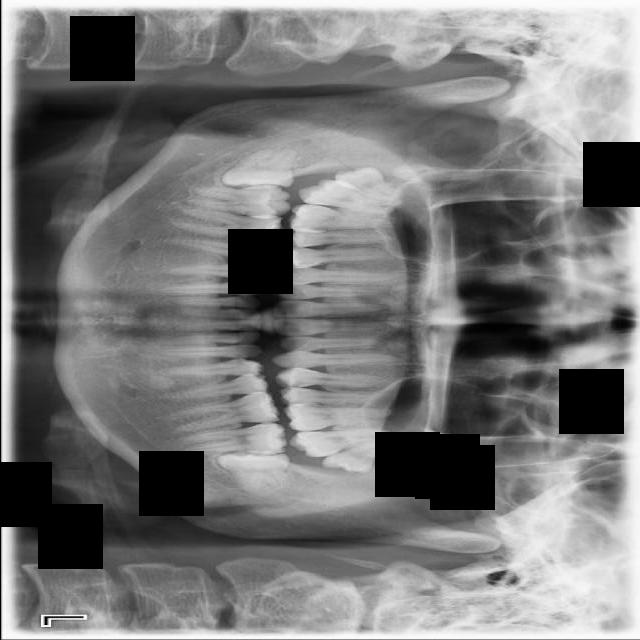3M ESPE Implant: (330, 153, 409, 215)
73: (83, 611, 93, 614)
BioHorizons Implant: (287, 424, 397, 459)
BioLife Implant: (317, 430, 405, 486)
Biomet 3i Implant: (218, 450, 293, 493)
Blue Sky Bio Implant: (177, 423, 289, 455)
Caries: (295, 173, 403, 219)
Implant: (187, 185, 290, 218)
Keystone Dental Implant: (219, 147, 300, 193)
